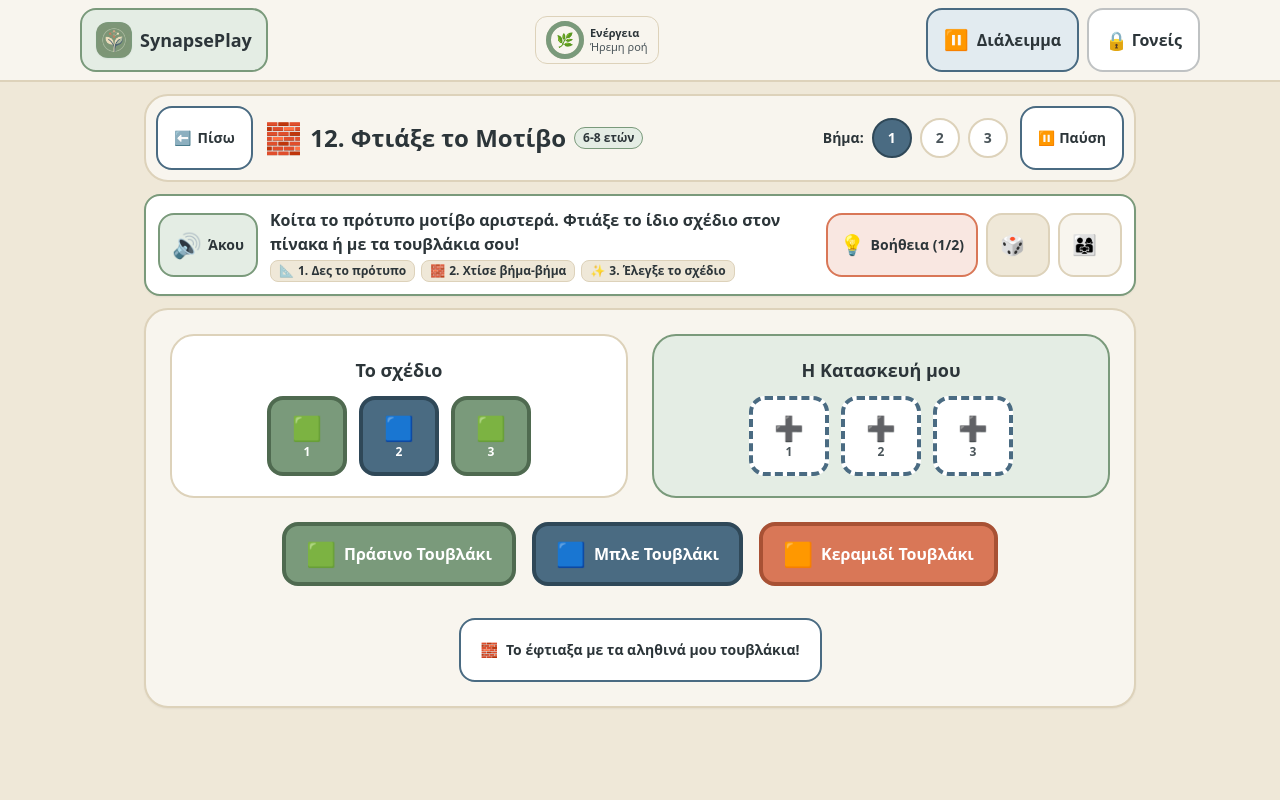
Gate 3 — Remaining 8 Activities (02, 03, 05, 06, 08, 09, 10, 12) & Full 12-Activity Verification › Activity 12 (Build the Pattern): supports both on-screen block placement and physical LEGO bridge completion, plus restartability
// Round 1 pattern is ['sage', 'slate', 'sage']
Click the button with test id "pattern-picker-sage" at (399, 554), box [282,522,516,586]
Wait 450 ms
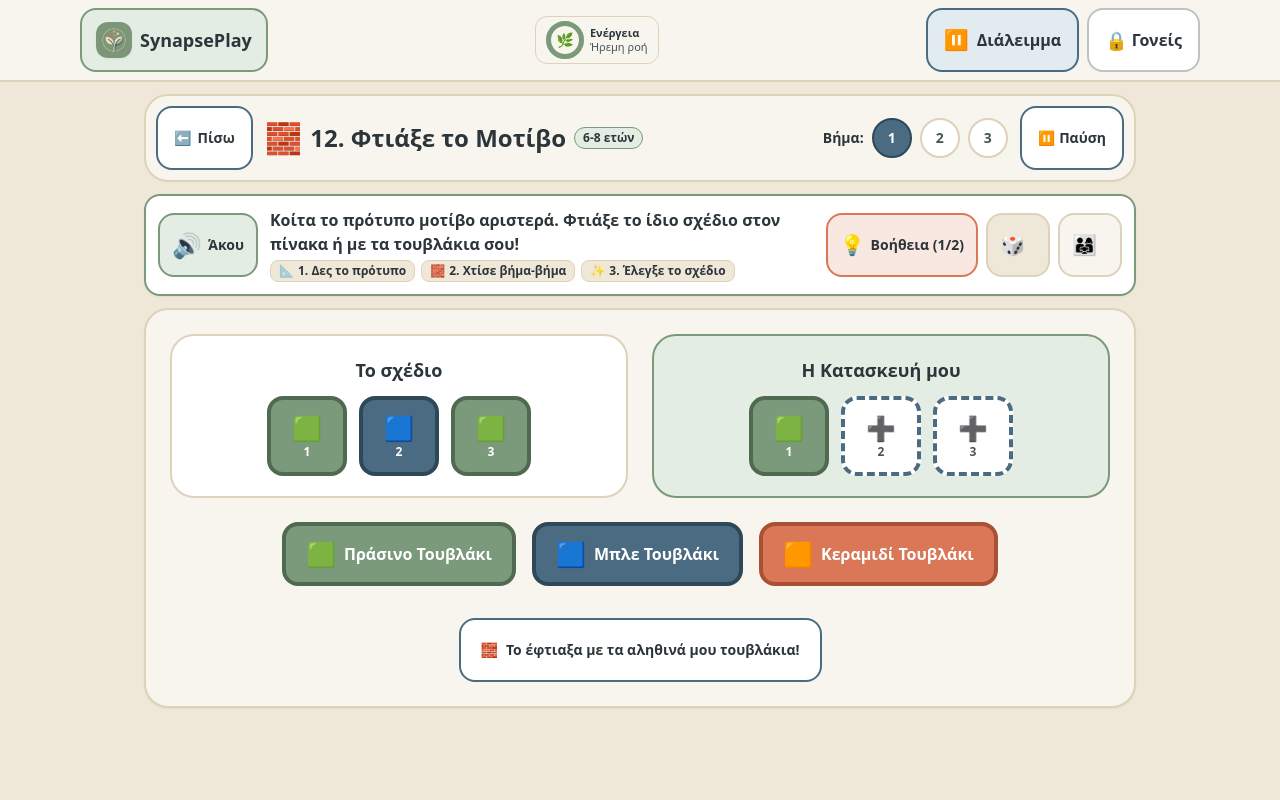
Click the button with test id "pattern-picker-slate" at (638, 554), box [532,522,743,586]
Wait 450 ms
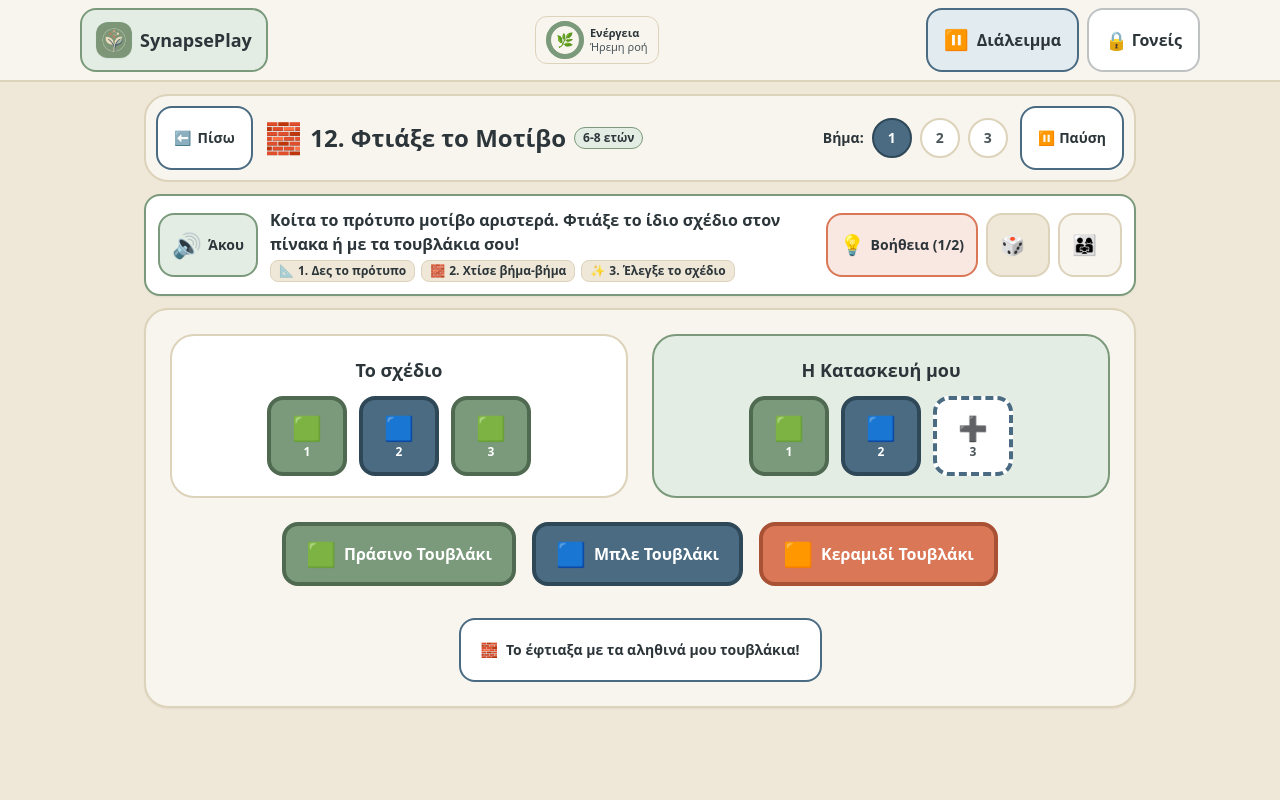
Click the button with test id "pattern-picker-sage" at (399, 554), box [282,522,516,586]
Wait 450 ms
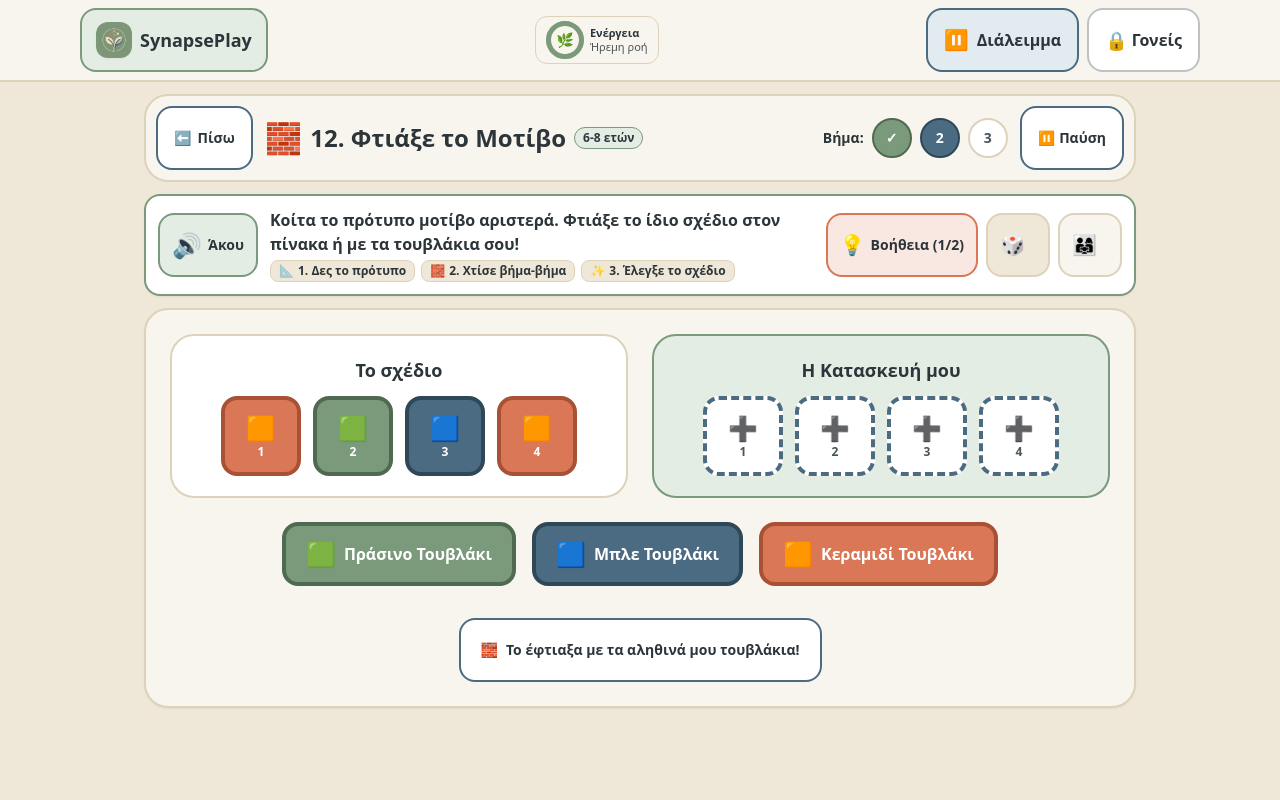
Click the button with test id "pattern-physical-lego-btn" at (640, 650), box [458,618,822,682]
Wait 450 ms
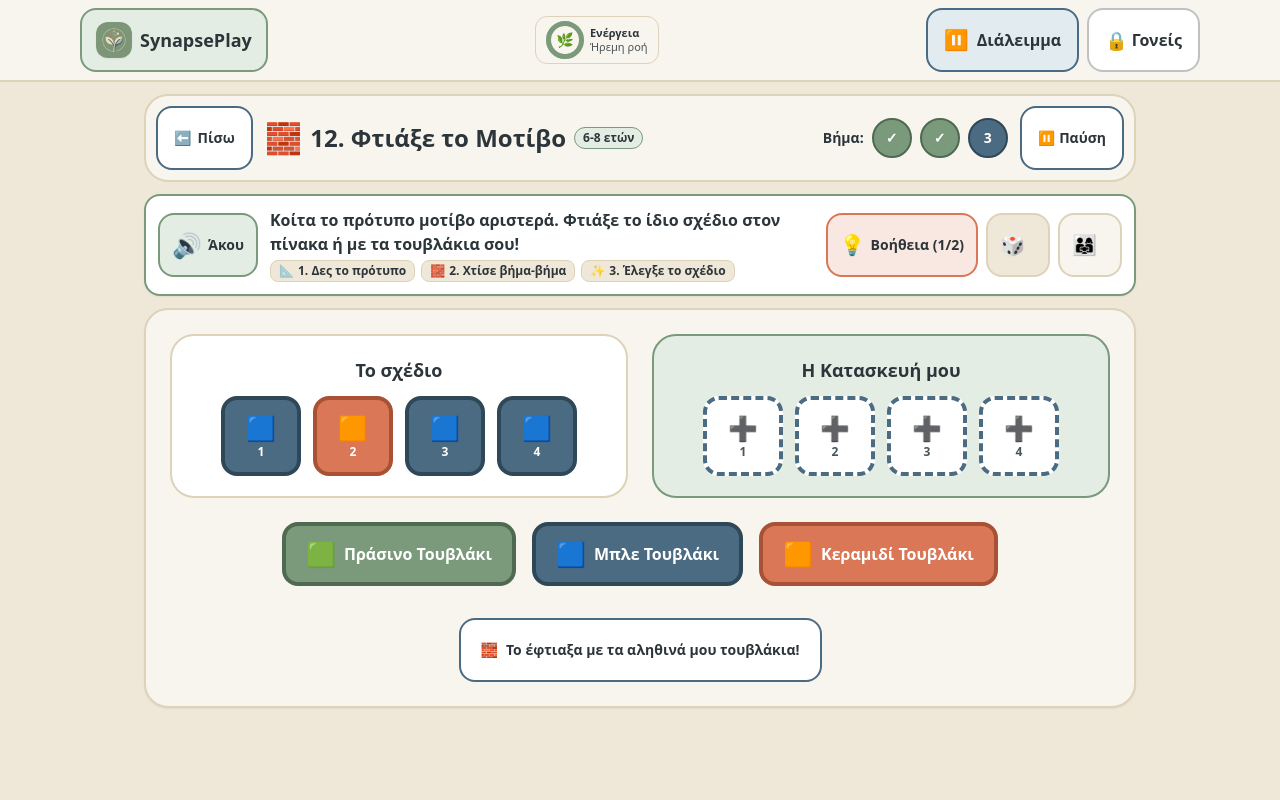
Click the button with test id "pattern-physical-lego-btn" at (640, 650), box [458,618,822,682]
(page scrolled)
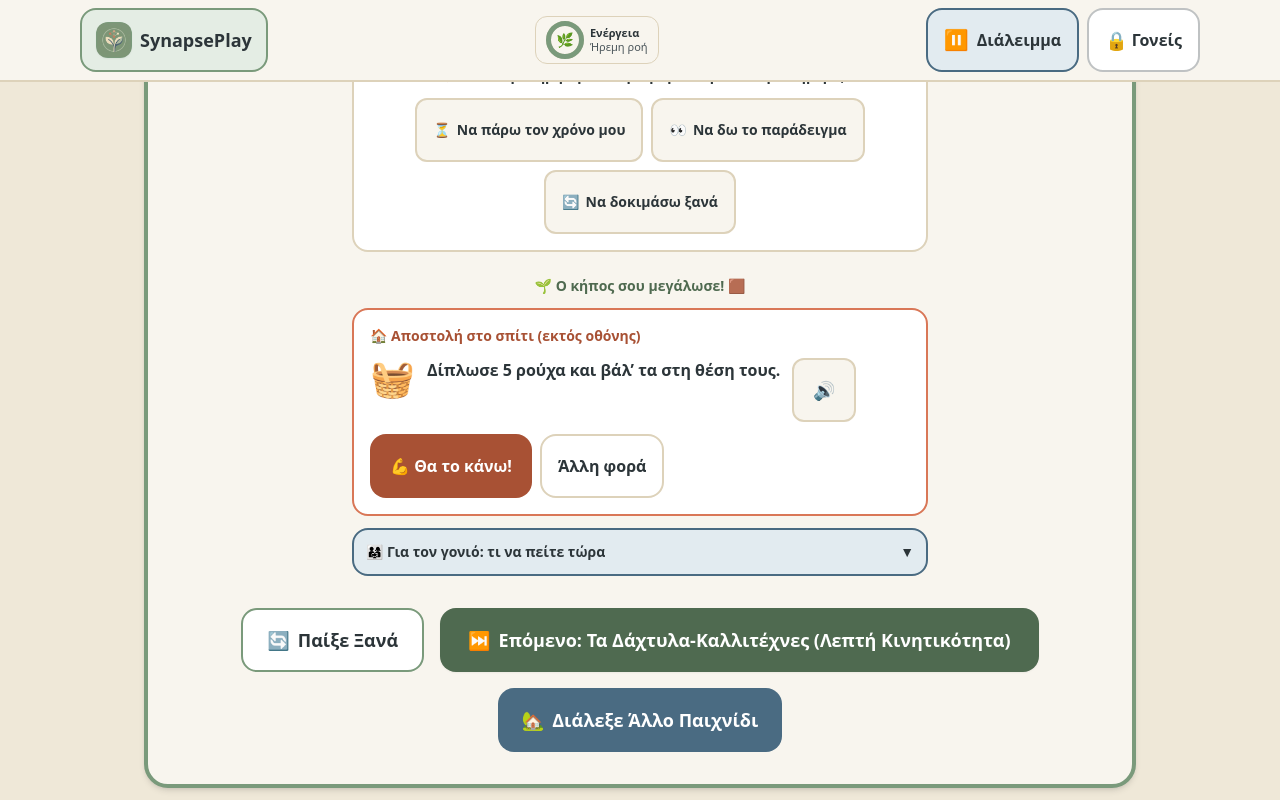
// Restart activity and verify it returns cleanly to Round 1
Click the button with test id "play-again-btn" at (333, 640), box [241,608,424,672]
(page scrolled)
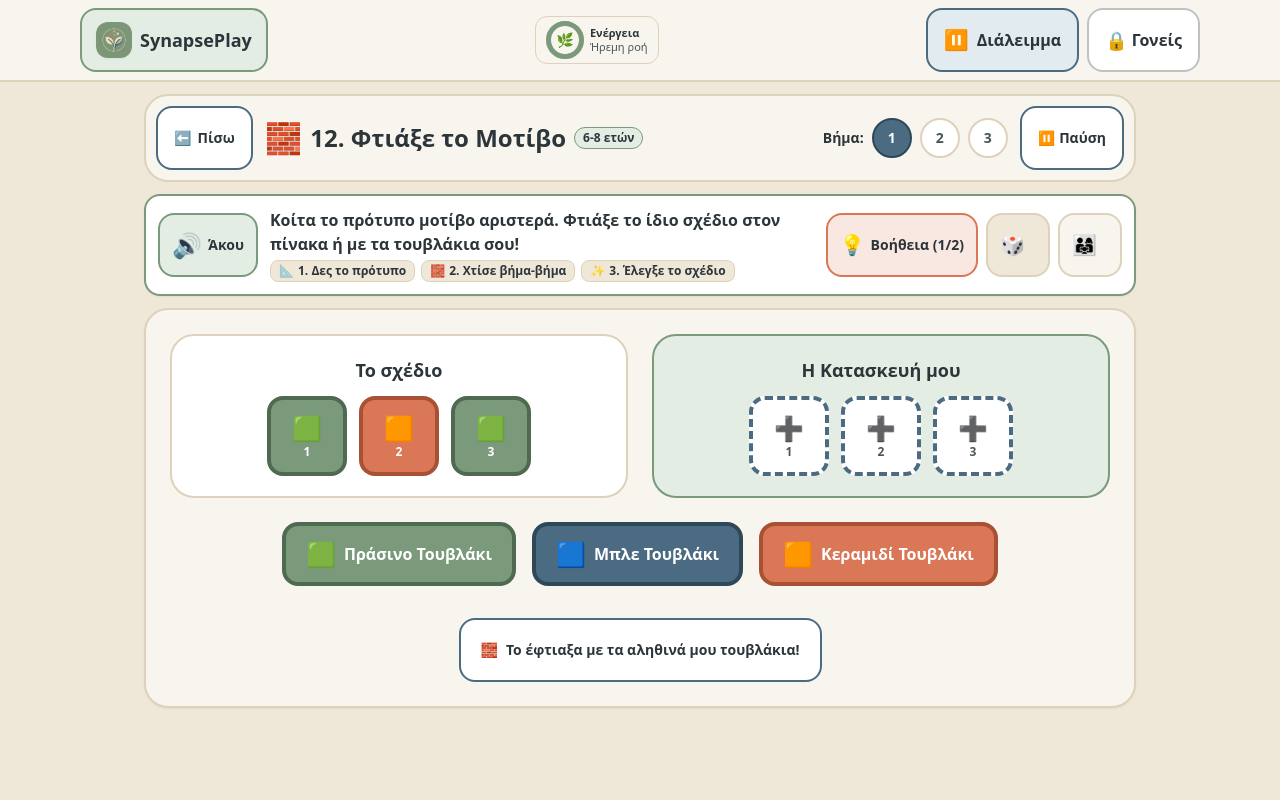
Expected: the element with test id "activity-12-build-pattern" is shown, [170,334,1110,682]
Expected: the text with test id "round-pebble-1" reads "1", [888,128,896,147]
